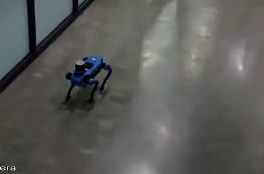robot dog: (61, 51, 113, 112)
